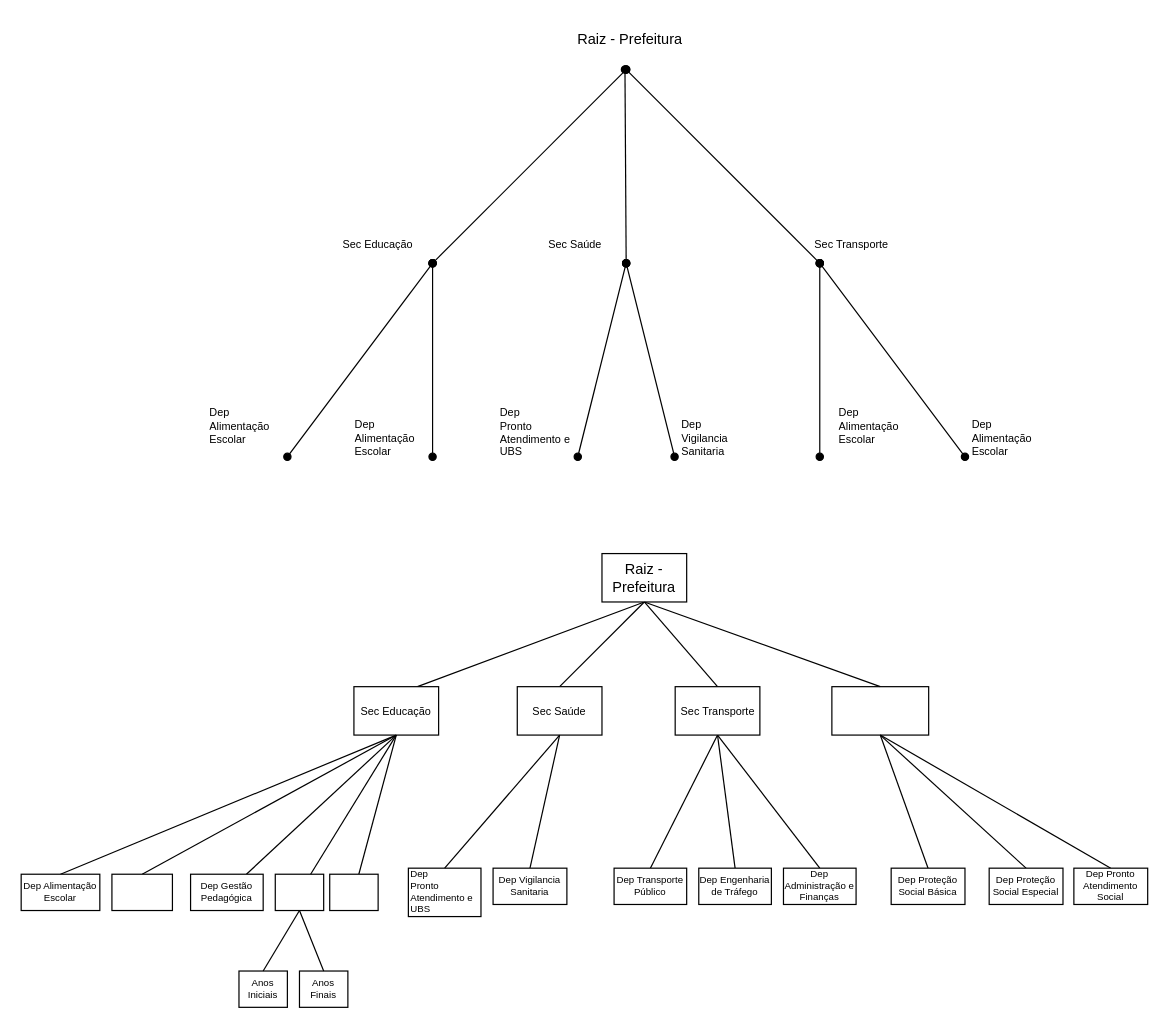
The diagram is 1169 pixels wide and 1029 high, and some of its shapes have lost their labels. The box of each missing label's shape, as (x1, y1, x2, y2) in pixels:
Dep EF: (274, 873, 324, 911)
Dep EJA: (111, 873, 172, 911)
Dep EM: (329, 873, 378, 911)
Sec Assistência e Desenvolvimento Social: (831, 685, 929, 735)
